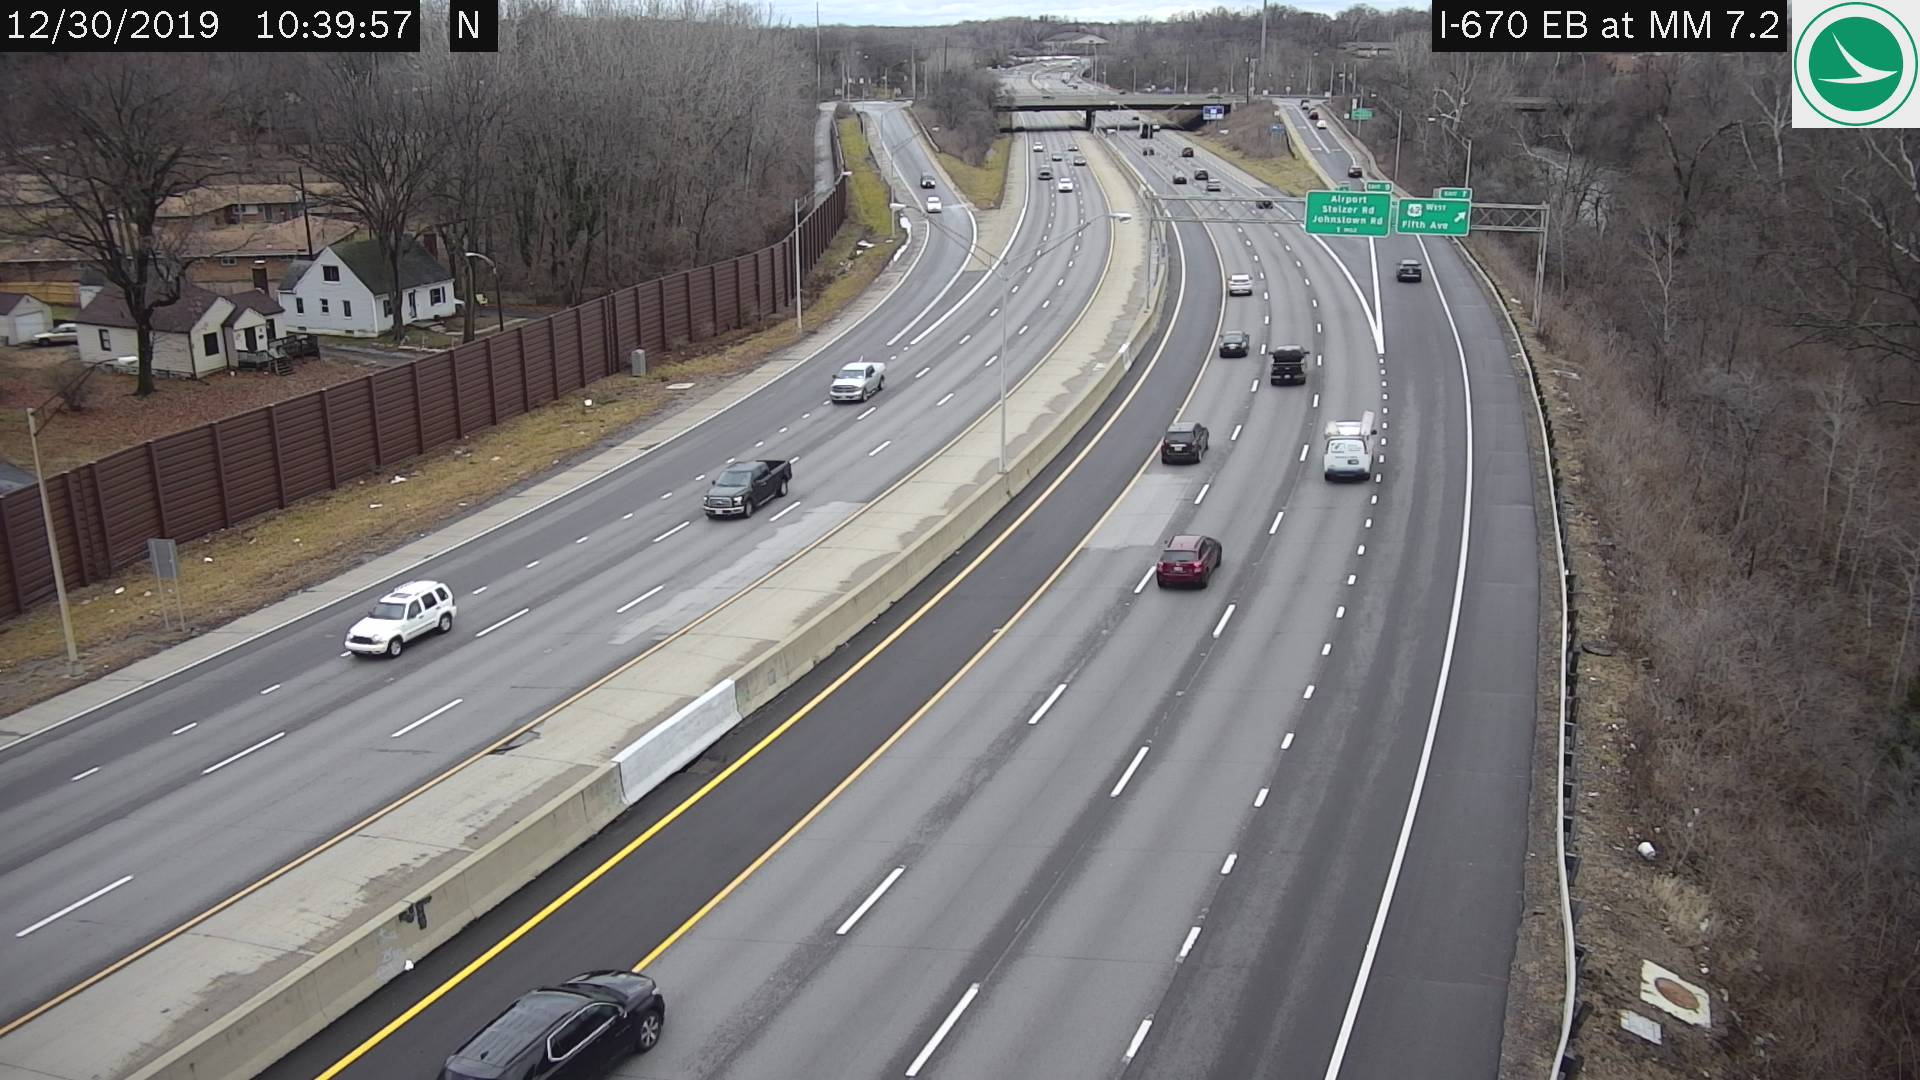car: (438, 968, 662, 1068), (342, 580, 454, 655), (702, 456, 790, 520), (1323, 407, 1378, 480), (1158, 535, 1222, 588), (829, 360, 886, 404), (1162, 415, 1211, 464), (1270, 344, 1305, 384), (1215, 328, 1246, 356), (1226, 273, 1251, 293), (1398, 260, 1422, 280), (926, 193, 942, 212), (1207, 177, 1221, 190), (1058, 177, 1071, 190), (1193, 167, 1208, 179), (1038, 165, 1051, 177), (1346, 165, 1361, 175), (1174, 170, 1185, 182)
